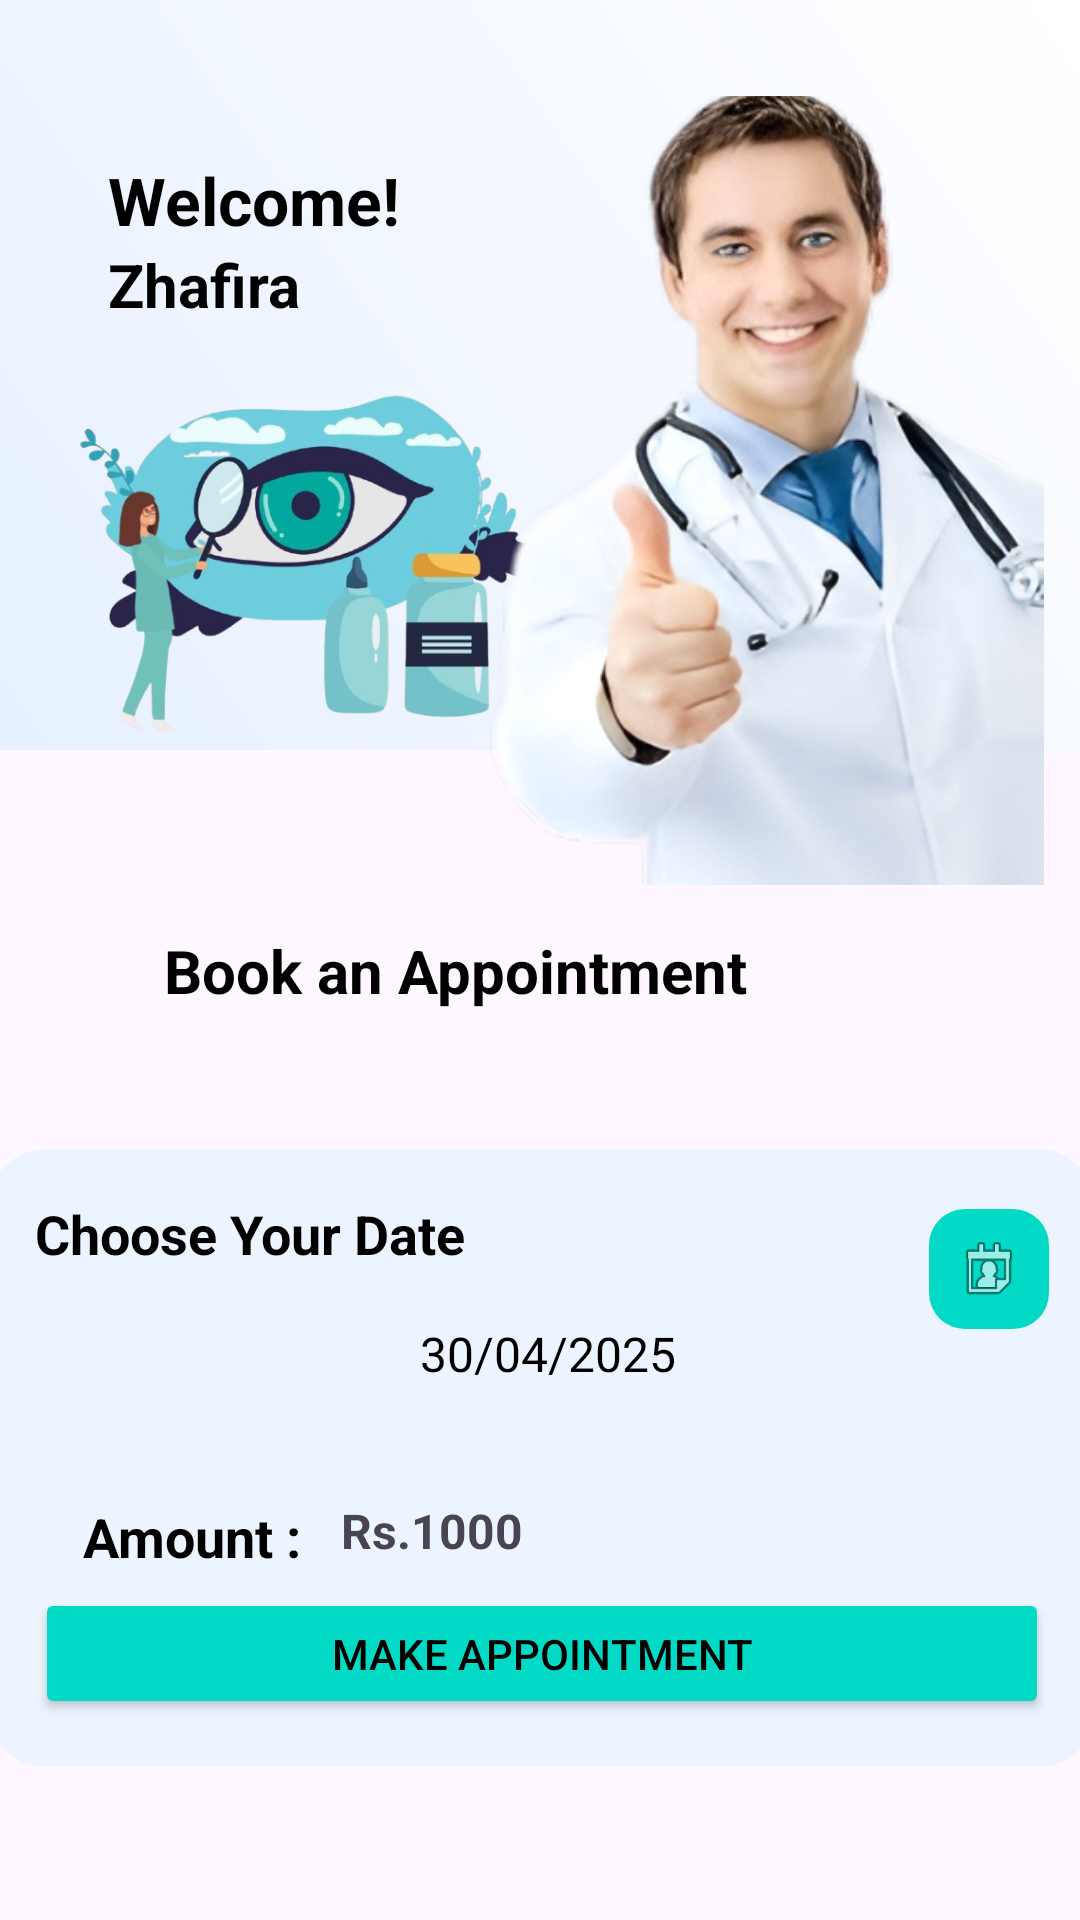

Where to tap for icons on this 1080*1920 app screen, as (x=x, y=y):
Calendar: (x=989, y=1269)
